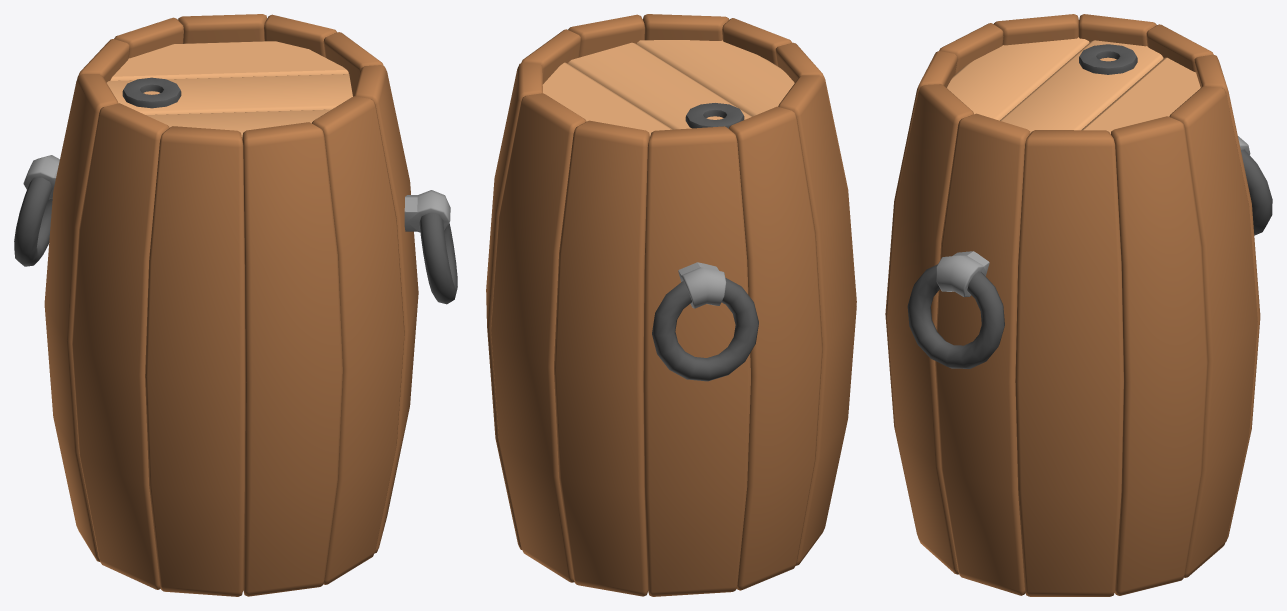
The model's file is Wooden_Barrel_04.fbx.
The picture shows the model from 3 angles, left to right: view 1: azimuth 30°, elevation 25°; view 2: azimuth 150°, elevation 25°; view 3: azimuth 270°, elevation 25°; orthographic projection.
Parts seen in each view (by area): view 1: Wooden_Barrel_04; view 2: Wooden_Barrel_04; view 3: Wooden_Barrel_04.
Part boxes in pixels (left/top/right/bottom): Wooden_Barrel_04: left=14, top=14, right=457, bottom=596; Wooden_Barrel_04: left=486, top=14, right=856, bottom=596; Wooden_Barrel_04: left=885, top=14, right=1272, bottom=596.
Size of the model in its own units: 652 by 850 by 648.
